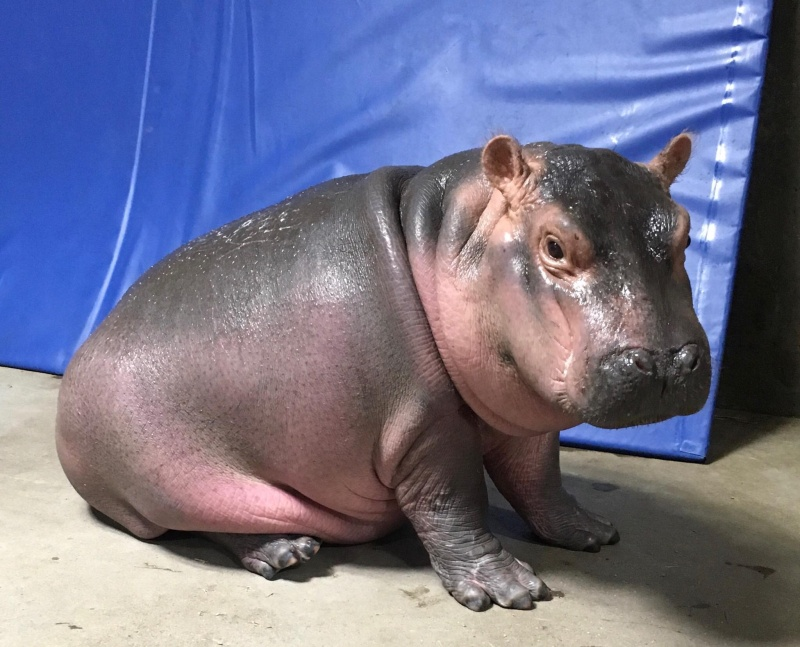hipopotamo: (49, 128, 725, 626)
